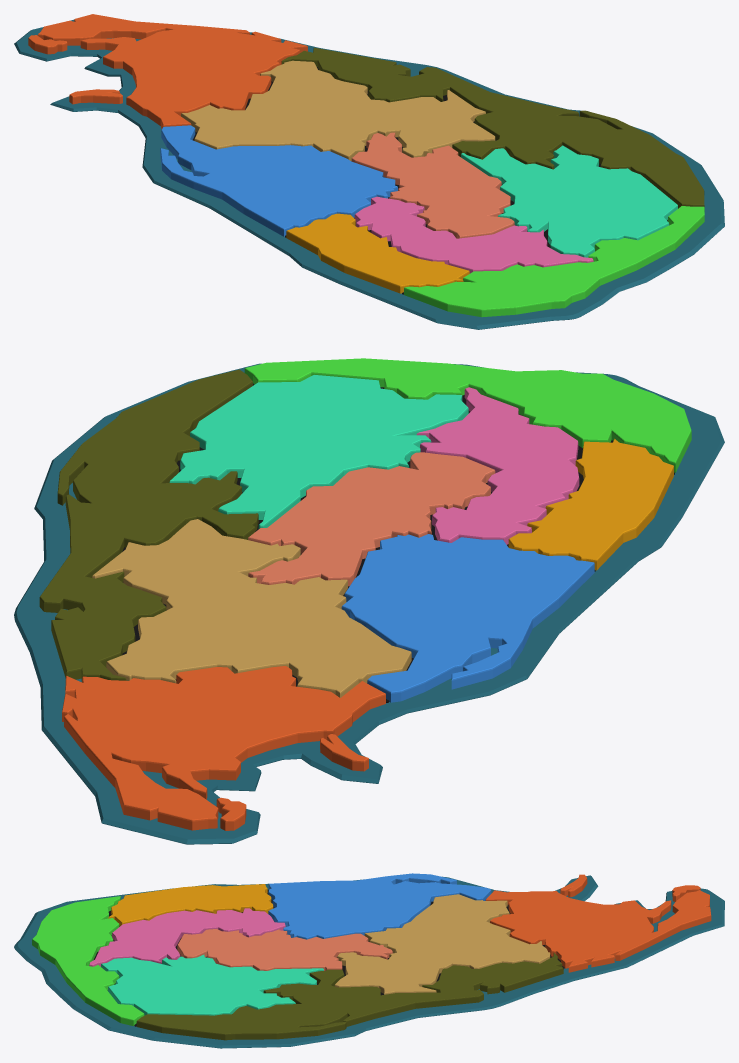
File: Sri Lankan Map.glb
3 views of the same model, one above another, from view 1: azimuth 30°, elevation 25°; view 2: azimuth 150°, elevation 25°; view 3: azimuth 270°, elevation 25° (orthographic). The views are drawn at different scales.
Parts seen in each view (by area): view 1: Nothern Province, Eastern Province, North Central Province, Sealine, North Western Province, Uva Province, Southern Province, Central Province, Sabaragamuwa Province, Western province; view 2: Nothern Province, Eastern Province, North Central Province, Sealine, North Western Province, Uva Province, Southern Province, Central Province, Sabaragamuwa Province, Western province; view 3: Eastern Province, Nothern Province, North Central Province, Sealine, North Western Province, Uva Province, Southern Province, Central Province, Sabaragamuwa Province, Western province.
Part boxes in pixels (<box>): Nothern Province: <box>28,14,307,128</box>; Eastern Province: <box>281,47,704,207</box>; North Central Province: <box>181,60,495,160</box>; Sealine: <box>14,19,724,329</box>; North Western Province: <box>160,125,397,236</box>; Uva Province: <box>461,145,677,257</box>; Southern Province: <box>404,206,704,317</box>; Central Province: <box>351,132,514,238</box>; Sabaragamuwa Province: <box>354,196,593,273</box>; Western province: <box>286,213,469,293</box>; Nothern Province: <box>62,666,385,830</box>; Eastern Province: <box>39,369,258,682</box>; North Central Province: <box>92,519,411,697</box>; Sealine: <box>14,363,724,844</box>; North Western Province: <box>341,534,594,702</box>; Uva Province: <box>169,375,468,528</box>; Southern Province: <box>244,358,691,472</box>; Central Province: <box>248,452,495,586</box>; Sabaragamuwa Province: <box>416,387,579,544</box>; Western province: <box>508,438,673,570</box>; Eastern Province: <box>136,953,563,1040</box>; Nothern Province: <box>485,874,711,972</box>; North Central Province: <box>334,894,550,994</box>; Sealine: <box>14,875,724,1048</box>; North Western Province: <box>268,873,491,939</box>; Uva Province: <box>101,954,323,1015</box>; Southern Province: <box>32,896,144,1025</box>; Central Province: <box>177,929,392,970</box>; Sabaragamuwa Province: <box>89,908,285,966</box>; Western province: <box>108,884,273,926</box>.
Size of the model in its own units: 0.9584 by 0.0222 by 1.67.
